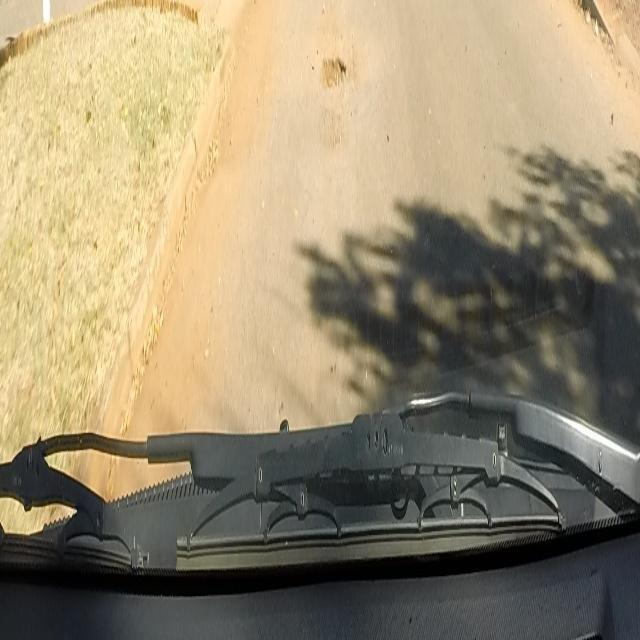pothole: (321, 53, 346, 93)
